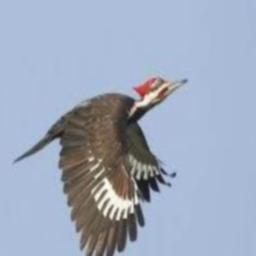Woodpecker: (13, 76, 187, 256)
